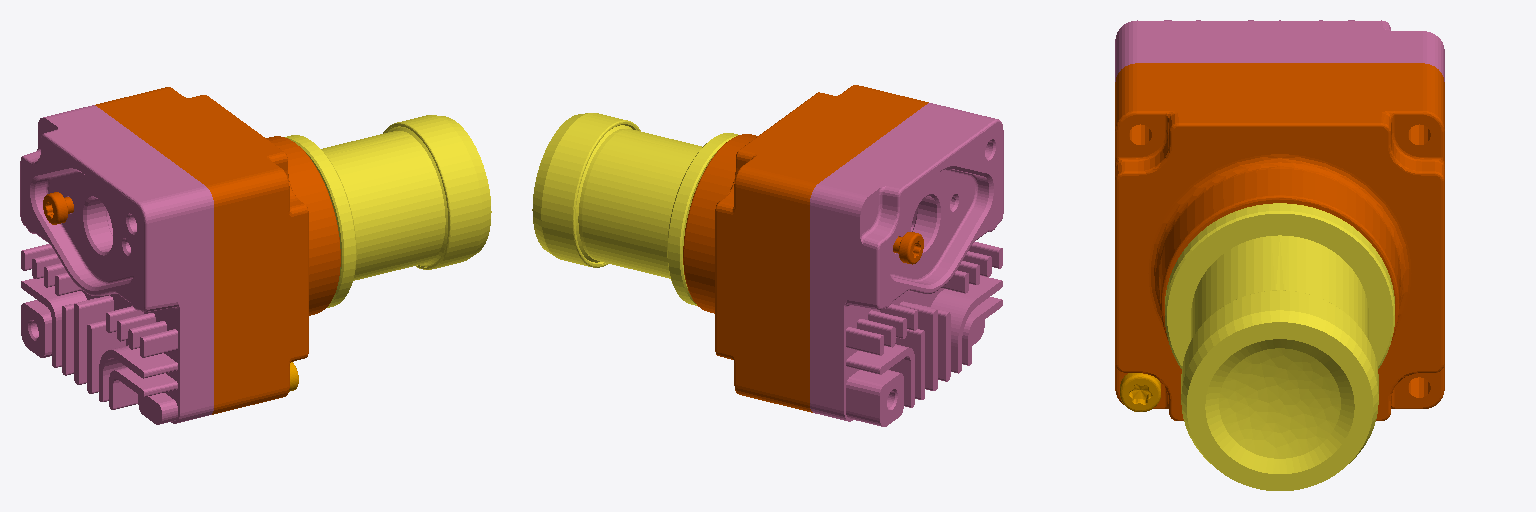
robot.urdf — SG8S_AR0820C_5300_G2A_H30YA:
<?xml version="1.0"?>
<!-- Generated by usd2urdf.py from SG8S-AR0820C-5300-G2A-H30YA.calibrated.acceptance.usd -->
<!-- metersPerUnit=0.01 upAxis=Z -->
<robot name="SG8S_AR0820C_5300_G2A_H30YA">
  <link name="base_link">
  </link>
  <link name="Root">
  </link>
  <link name="SG8S_AR0820C_5300_G2A_H30YA">
  </link>
  <link name="lens">
    <visual>
      <origin xyz="0 0 0" rpy="0 0 0"/>
      <geometry>
        <mesh filename="meshes/Mesh.stl"/>
      </geometry>
    </visual>
    <collision>
      <origin xyz="0 0 0" rpy="0 0 0"/>
      <geometry>
        <mesh filename="meshes/Mesh.stl"/>
      </geometry>
    </collision>
    <inertial>
      <origin xyz="0 0 0" rpy="0 0 0"/>
      <mass value="0.15"/>
      <inertia ixx="0.00110249993" ixy="0" ixz="0" iyy="0.00172744626" iyz="0" izz="0.00172744626"/>
    </inertial>
  </link>
  <link name="SG8S_AR0820C_5300_G2A_H30YA_1">
  </link>
  <link name="top">
    <visual>
      <origin xyz="0 0 0" rpy="0 0 0"/>
      <geometry>
        <mesh filename="meshes/Mesh_1.stl"/>
      </geometry>
    </visual>
    <collision>
      <origin xyz="0 0 0" rpy="0 0 0"/>
      <geometry>
        <mesh filename="meshes/Mesh_1.stl"/>
      </geometry>
    </collision>
    <inertial>
      <origin xyz="0 0 0" rpy="0 0 0"/>
      <mass value="0.15"/>
      <inertia ixx="0.00162026093" ixy="0" ixz="0" iyy="0.00162026138" iyz="0" izz="0.00224999973"/>
    </inertial>
  </link>
  <link name="bottom">
    <visual>
      <origin xyz="0 0 0" rpy="0 0 0"/>
      <geometry>
        <mesh filename="meshes/Mesh_2.stl"/>
      </geometry>
    </visual>
    <collision>
      <origin xyz="0 0 0" rpy="0 0 0"/>
      <geometry>
        <mesh filename="meshes/Mesh_2.stl"/>
      </geometry>
    </collision>
    <inertial>
      <origin xyz="0 0 0" rpy="0 0 0"/>
      <mass value="0.15"/>
      <inertia ixx="0.00125428579" ixy="0" ixz="0" iyy="0.00125428612" iyz="0" izz="0.00224999962"/>
    </inertial>
  </link>
  <link name="fakra">
    <visual>
      <origin xyz="0 0 0" rpy="0 0 0"/>
      <geometry>
        <mesh filename="meshes/Mesh_3.stl"/>
      </geometry>
    </visual>
    <collision>
      <origin xyz="0 0 0" rpy="0 0 0"/>
      <geometry>
        <mesh filename="meshes/Mesh_3.stl"/>
      </geometry>
    </collision>
    <inertial>
      <origin xyz="0 0 0" rpy="0 0 0"/>
      <mass value="0.15"/>
      <inertia ixx="0.000664724523" ixy="0" ixz="0" iyy="0.000589528158" iyz="0" izz="0.000885196429"/>
    </inertial>
  </link>
  <link name="screw">
    <visual>
      <origin xyz="0 0 0" rpy="0 0 0"/>
      <geometry>
        <mesh filename="meshes/Mesh_4.stl"/>
      </geometry>
    </visual>
    <collision>
      <origin xyz="0 0 0" rpy="0 0 0"/>
      <geometry>
        <mesh filename="meshes/Mesh_4.stl"/>
      </geometry>
    </collision>
    <inertial>
      <origin xyz="0 0 0" rpy="0 0 0"/>
      <mass value="0.15"/>
      <inertia ixx="0.000194591302" ixy="0" ixz="0" iyy="0.000318453528" iyz="0" izz="0.000361783971"/>
    </inertial>
  </link>
  <link name="screw_01">
    <visual>
      <origin xyz="0 0 0" rpy="0 0 0"/>
      <geometry>
        <mesh filename="meshes/Mesh_5.stl"/>
      </geometry>
    </visual>
    <collision>
      <origin xyz="0 0 0" rpy="0 0 0"/>
      <geometry>
        <mesh filename="meshes/Mesh_5.stl"/>
      </geometry>
    </collision>
    <inertial>
      <origin xyz="0 0 0" rpy="0 0 0"/>
      <mass value="0.15"/>
      <inertia ixx="0.000194591302" ixy="0" ixz="0" iyy="0.000318453528" iyz="0" izz="0.000361783971"/>
    </inertial>
  </link>
  <link name="screw_02">
    <visual>
      <origin xyz="0 0 0" rpy="0 0 0"/>
      <geometry>
        <mesh filename="meshes/Mesh_6.stl"/>
      </geometry>
    </visual>
    <collision>
      <origin xyz="0 0 0" rpy="0 0 0"/>
      <geometry>
        <mesh filename="meshes/Mesh_6.stl"/>
      </geometry>
    </collision>
    <inertial>
      <origin xyz="0 0 0" rpy="0 0 0"/>
      <mass value="0.15"/>
      <inertia ixx="0.000194591302" ixy="0" ixz="0" iyy="0.000318453528" iyz="0" izz="0.000361783971"/>
    </inertial>
  </link>
  <link name="screw_03">
    <visual>
      <origin xyz="0 0 0" rpy="0 0 0"/>
      <geometry>
        <mesh filename="meshes/Mesh_7.stl"/>
      </geometry>
    </visual>
    <collision>
      <origin xyz="0 0 0" rpy="0 0 0"/>
      <geometry>
        <mesh filename="meshes/Mesh_7.stl"/>
      </geometry>
    </collision>
    <inertial>
      <origin xyz="0 0 0" rpy="0 0 0"/>
      <mass value="0.15"/>
      <inertia ixx="0.000194591302" ixy="0" ixz="0" iyy="0.000318453528" iyz="0" izz="0.000361783971"/>
    </inertial>
  </link>
  <link name="screw_04">
    <visual>
      <origin xyz="0 0 0" rpy="0 0 0"/>
      <geometry>
        <mesh filename="meshes/Mesh_8.stl"/>
      </geometry>
    </visual>
    <collision>
      <origin xyz="0 0 0" rpy="0 0 0"/>
      <geometry>
        <mesh filename="meshes/Mesh_8.stl"/>
      </geometry>
    </collision>
    <inertial>
      <origin xyz="0 0 0" rpy="0 0 0"/>
      <mass value="0.15"/>
      <inertia ixx="5.5683573e-05" ixy="0" ixz="0" iyy="6.83346213e-05" iyz="0" izz="7.48162515e-05"/>
    </inertial>
  </link>
  <link name="screw_05">
    <visual>
      <origin xyz="0 0 0" rpy="0 0 0"/>
      <geometry>
        <mesh filename="meshes/Mesh_9.stl"/>
      </geometry>
    </visual>
    <collision>
      <origin xyz="0 0 0" rpy="0 0 0"/>
      <geometry>
        <mesh filename="meshes/Mesh_9.stl"/>
      </geometry>
    </collision>
    <inertial>
      <origin xyz="0 0 0" rpy="0 0 0"/>
      <mass value="0.15"/>
      <inertia ixx="5.5683573e-05" ixy="0" ixz="0" iyy="6.83346213e-05" iyz="0" izz="7.48162515e-05"/>
    </inertial>
  </link>
  <link name="sg8s_ar0820c_5300_g2a_h30ya_lens">
  </link>
  <joint name="base_link_to_Root" type="fixed">
    <parent link="base_link"/>
    <child link="Root"/>
    <origin xyz="0 0 0" rpy="0 0 0"/>
  </joint>
  <joint name="Root_to_SG8S_AR0820C_5300_G2A_H30YA" type="fixed">
    <parent link="Root"/>
    <child link="SG8S_AR0820C_5300_G2A_H30YA"/>
    <origin xyz="0 0 0" rpy="0 1.57079633 0"/>
  </joint>
  <joint name="SG8S_AR0820C_5300_G2A_H30YA_to_lens" type="fixed">
    <parent link="SG8S_AR0820C_5300_G2A_H30YA"/>
    <child link="lens"/>
    <origin xyz="0.152359832 0.152359847 0.176384956" rpy="0 1.57079633 0"/>
  </joint>
  <joint name="lens_to_SG8S_AR0820C_5300_G2A_H30YA_1" type="fixed">
    <parent link="lens"/>
    <child link="SG8S_AR0820C_5300_G2A_H30YA_1"/>
    <origin xyz="0 0 0" rpy="-1.57079633 0 -1.57079633"/>
  </joint>
  <joint name="SG8S_AR0820C_5300_G2A_H30YA_to_top" type="fixed">
    <parent link="SG8S_AR0820C_5300_G2A_H30YA"/>
    <child link="top"/>
    <origin xyz="0.152359832 1.03235985 -0.145" rpy="0 0 0"/>
  </joint>
  <joint name="SG8S_AR0820C_5300_G2A_H30YA_to_bottom" type="fixed">
    <parent link="SG8S_AR0820C_5300_G2A_H30YA"/>
    <child link="bottom"/>
    <origin xyz="0.152359832 1.03235985 -0.145" rpy="0 0 0"/>
  </joint>
  <joint name="SG8S_AR0820C_5300_G2A_H30YA_to_fakra" type="fixed">
    <parent link="SG8S_AR0820C_5300_G2A_H30YA"/>
    <child link="fakra"/>
    <origin xyz="0.0901598111 0.152359847 -0.2492" rpy="4.05858743e-08 1.57079633 0"/>
  </joint>
  <joint name="SG8S_AR0820C_5300_G2A_H30YA_to_screw" type="fixed">
    <parent link="SG8S_AR0820C_5300_G2A_H30YA"/>
    <child link="screw"/>
    <origin xyz="4.14353013 -14.013492 3.37720256" rpy="0.959110919 0.941486389 2.62574582"/>
  </joint>
  <joint name="SG8S_AR0820C_5300_G2A_H30YA_to_screw_01" type="fixed">
    <parent link="SG8S_AR0820C_5300_G2A_H30YA"/>
    <child link="screw_01"/>
    <origin xyz="4.14353013 -13.759492 3.37720256" rpy="0.959110919 0.941486389 2.62574582"/>
  </joint>
  <joint name="SG8S_AR0820C_5300_G2A_H30YA_to_screw_02" type="fixed">
    <parent link="SG8S_AR0820C_5300_G2A_H30YA"/>
    <child link="screw_02"/>
    <origin xyz="3.88953013 -13.759492 3.37720256" rpy="0.959110919 0.941486389 2.62574582"/>
  </joint>
  <joint name="SG8S_AR0820C_5300_G2A_H30YA_to_screw_03" type="fixed">
    <parent link="SG8S_AR0820C_5300_G2A_H30YA"/>
    <child link="screw_03"/>
    <origin xyz="3.88953013 -14.013492 3.37720256" rpy="0.959110919 0.941486389 2.62574582"/>
  </joint>
  <joint name="SG8S_AR0820C_5300_G2A_H30YA_to_screw_04" type="fixed">
    <parent link="SG8S_AR0820C_5300_G2A_H30YA"/>
    <child link="screw_04"/>
    <origin xyz="-3.77401047 -13.954492 -3.80940256" rpy="-2.18248173 -0.941486389 0.515846833"/>
  </joint>
  <joint name="SG8S_AR0820C_5300_G2A_H30YA_to_screw_05" type="fixed">
    <parent link="SG8S_AR0820C_5300_G2A_H30YA"/>
    <child link="screw_05"/>
    <origin xyz="-3.77401047 -13.818492 -3.80940256" rpy="-2.18248173 -0.941486389 0.515846833"/>
  </joint>
  <joint name="SG8S_AR0820C_5300_G2A_H30YA_to_sg8s_ar0820c_5300_g2a_h30ya_lens" type="fixed">
    <parent link="SG8S_AR0820C_5300_G2A_H30YA"/>
    <child link="sg8s_ar0820c_5300_g2a_h30ya_lens"/>
    <origin xyz="0.152359832 0.152359847 0.176384956" rpy="0 0 -1.57079633"/>
  </joint>
</robot>

--- Facts derived from the render (not from the file) ---
3 views of the same robot in one strip: view 1: azimuth 30°, elevation 25°; view 2: azimuth 150°, elevation 25°; view 3: azimuth 270°, elevation 25° (orthographic).
Robot: SG8S_AR0820C_5300_G2A_H30YA — 15 links, 14 joints (14 fixed); root link base_link; default pose: every joint at zero.
Links seen in each view (by area): view 1: bottom, top, lens, screw_05; view 2: bottom, top, lens, screw_05; view 3: top, lens, bottom, screw.
Boxes of the visible links, x1=… form: bottom: x1=20, y1=105, x2=213, y2=424; top: x1=95, y1=87, x2=340, y2=414; lens: x1=285, y1=115, x2=491, y2=307; screw_05: x1=43, y1=192, x2=73, y2=224; bottom: x1=810, y1=103, x2=1003, y2=426; top: x1=683, y1=85, x2=928, y2=412; lens: x1=532, y1=113, x2=737, y2=305; screw_05: x1=893, y1=232, x2=923, y2=264; top: x1=1115, y1=63, x2=1444, y2=420; lens: x1=1165, y1=203, x2=1394, y2=490; bottom: x1=1115, y1=20, x2=1444, y2=81; screw: x1=1120, y1=373, x2=1160, y2=411.
Size in the robot's own frame: 0.519 by 0.3 by 0.3 metres.
Meshes: 10 distinct files referenced, 5 mesh visuals loaded (5 binary STL); not drawn: 5 (reference not matched to a file when rendering).
